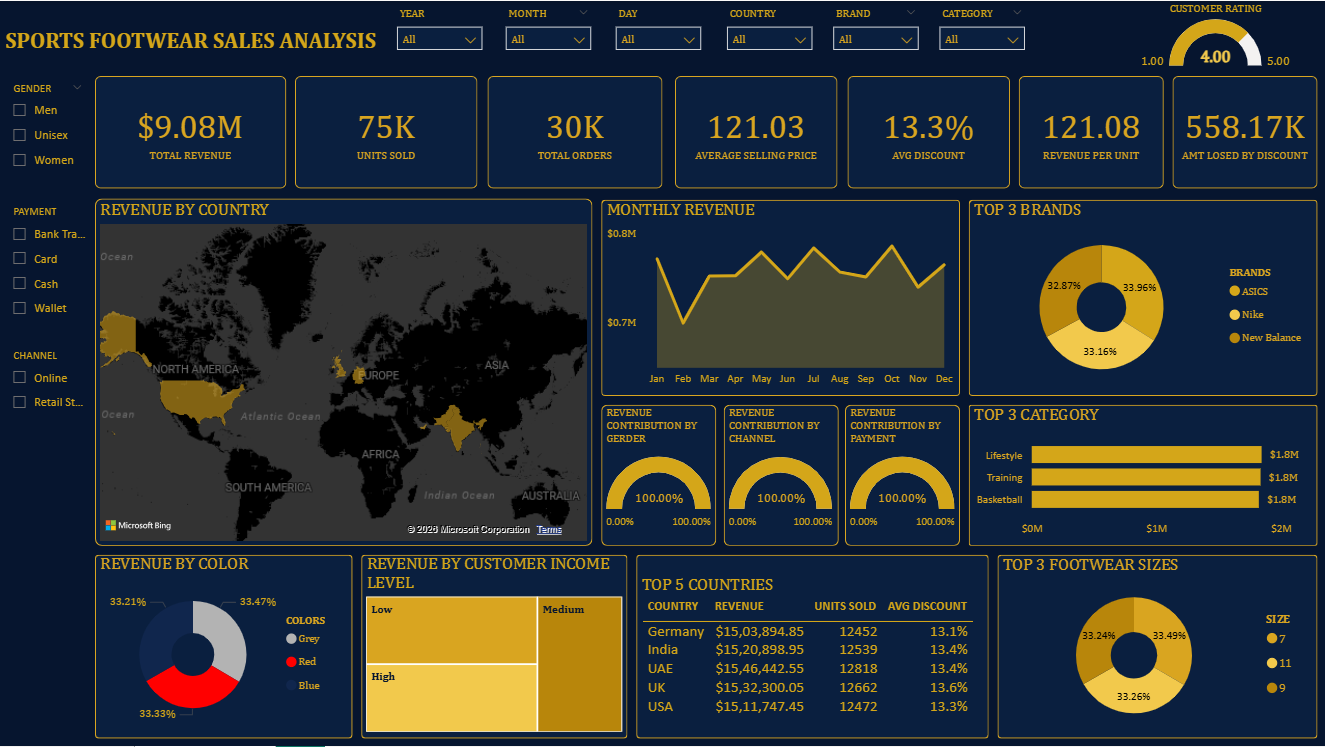

What the dashboard file says about the page in this screenshot:
{"tool":"powerbi","page":{"name":"DASHBOARD","canvas":[1280,720],"ordinal":0},"visuals":[{"type":"shape","box":[91.7,190.6,480.2,335.4],"z":0},{"type":"shape","box":[91.7,72.4,184.6,108.6],"z":1000},{"type":"shape","box":[284.7,72.4,176.1,108.6],"z":2000},{"type":"shape","box":[470.5,72.4,168.9,108.6],"z":3000},{"type":"shape","box":[651.5,72.4,156.8,108.6],"z":4000},{"type":"shape","box":[818,72.4,156.8,108.6],"z":5000},{"type":"shape","box":[983.2,72.4,139.9,108.6],"z":6000},{"type":"shape","box":[1131.6,72.4,139.9,108.6],"z":7000},{"type":"shape","box":[580.3,191.8,346.2,189.4],"z":8000},{"type":"shape","box":[935,191.8,336.6,189.4],"z":9000},{"type":"shape","box":[580.3,389.7,111,136.3],"z":10000},{"type":"shape","box":[698.5,389.7,111,136.3],"z":11000},{"type":"shape","box":[815.6,389.7,111,136.3],"z":12000},{"type":"shape","box":[935,389.7,336.6,136.3],"z":13000},{"type":"shape","box":[962.7,534.5,308.8,177.3],"z":14000},{"type":"shape","box":[614.1,534.5,340.2,177.3],"z":15000},{"type":"shape","box":[348.7,534.5,257,177.3],"z":16000},{"type":"shape","box":[91.7,534.5,248.5,177.3],"z":17000},{"type":"filledMap","title":"REVENUE BY COUNTRY","fields":{"Category":["DATA.country"]},"box":[91.7,191.8,480.2,334.2],"z":18000},{"type":"card","fields":{"Values":["MEASURE.TOTAL REVENUE"]},"box":[91.7,72.4,184.6,108.6],"z":19000},{"type":"card","fields":{"Values":["MEASURE.UNITS SOLD"]},"box":[284.7,72.4,176.1,108.6],"z":20000},{"type":"card","fields":{"Values":["MEASURE.TOTAL ORDERS"]},"box":[470.5,72.4,168.9,108.6],"z":21000},{"type":"card","fields":{"Values":["MEASURE.AVERAGE SELLING PRICE"]},"box":[651.5,72.4,156.8,108.6],"z":22000},{"type":"card","fields":{"Values":["MEASURE.AVG DISCOUNT"]},"box":[818,72.4,156.8,108.6],"z":23000},{"type":"card","fields":{"Values":["MEASURE.REVENUE PER UNIT"]},"box":[983.2,72.4,139.9,108.6],"z":24000},{"type":"card","fields":{"Values":["MEASURE.DIS AMT"]},"box":[1131.6,72.4,139.9,108.6],"z":25000},{"type":"areaChart","title":"MONTHLY REVENUE","fields":{"Category":["DimDate.MonthShort"],"Y":["MEASURE.TOTAL REVENUE"]},"box":[580.3,191.8,346.2,189.4],"z":26000},{"type":"textbox","box":[0,20.5,372.8,42.2],"z":27000},{"type":"donutChart","title":"TOP 3 BRANDS","fields":{"Category":["DATA.brand"],"Y":["MEASURE.TOTAL REVENUE"]},"box":[935,191.8,336.6,189.4],"z":28000},{"type":"gauge","fields":{"Y":["MEASURE.REVENUE CONTRIBUTION BY GERDER"]},"box":[580.3,389.7,111,136.3],"z":29000},{"type":"gauge","title":"REVENUE CONTRIBUTION BY CHANNEL","fields":{"Y":["MEASURE.CON BY CHANNEL"]},"box":[698.5,389.7,109.8,136.3],"z":30000},{"type":"gauge","title":"REVENUE CONTRIBUTION BY PAYMENT","fields":{"Y":["MEASURE.BY PAYMENT"]},"box":[815.6,389.7,111,136.3],"z":31000},{"type":"clusteredBarChart","title":"TOP 3 CATEGORY","fields":{"Category":["DATA.category"],"Y":["MEASURE.TOTAL REVENUE"]},"box":[935,389.7,336.6,136.3],"z":32000},{"type":"donutChart","title":"REVENUE BY COLOR","fields":{"Category":["DATA.color"],"Y":["MEASURE.TOTAL REVENUE"]},"box":[91.9,533.8,248.4,177],"z":33000},{"type":"donutChart","title":"TOP 3 FOOTWEAR SIZES","fields":{"Category":["DATA.size"],"Y":["MEASURE.TOTAL REVENUE"]},"box":[962.7,534.5,308.8,176.1],"z":34000},{"type":"treemap","title":"REVENUE BY CUSTOMER INCOME LEVEL","fields":{"Group":["DATA.customer_income_level"],"Values":["MEASURE.TOTAL REVENUE"]},"box":[348.7,533.2,257,177.3],"z":35000},{"type":"tableEx","title":"TOP 5 COUNTRIES","fields":{"Values":["DATA.country","MEASURE.TOTAL REVENUE","MEASURE.UNITS SOLD","MEASURE.AVG DISCOUNT"]},"box":[614.1,553.8,340.2,158],"z":36000},{"type":"slicer","fields":{"Values":["DimDate.Year"]},"box":[372.8,0,102.5,72.4],"z":37000},{"type":"slicer","fields":{"Values":["DimDate.MonthName"]},"box":[477.8,0,102.5,72.4],"z":38000},{"type":"slicer","fields":{"Values":["DimDate.DayName"]},"box":[583.9,0,102.5,72.4],"z":39000},{"type":"slicer","fields":{"Values":["DATA.country"]},"box":[691.3,0,102.5,72.4],"z":40000},{"type":"slicer","fields":{"Values":["DATA.brand"]},"box":[793.8,0,102.5,72.4],"z":41000},{"type":"slicer","fields":{"Values":["DATA.category"]},"box":[896.4,0,102.5,72.4],"z":42000},{"type":"slicer","fields":{"Values":["DATA.gender"]},"box":[0,72.4,91.7,108.6],"z":43000},{"type":"slicer","fields":{"Values":["DATA.payment_method"]},"box":[0,191.8,91.7,138.7],"z":44000},{"type":"slicer","fields":{"Values":["DATA.sales_channel"]},"box":[0,330.6,91.7,100.1],"z":45000},{"type":"gauge","title":"CUSTOMER RATING","fields":{"Y":["MEASURE.AVERAGE RATING"]},"box":[1074.9,0,196.6,72.4],"z":46000}]}

Visuals, with their boxes in screenshot pixels (x1, y1, x2, y2), scaled from the page's 1280x720 canvas onto the 1325x747 screenshot:
shape: bbox=(95, 198, 592, 546)
shape: bbox=(95, 75, 286, 188)
shape: bbox=(295, 75, 477, 188)
shape: bbox=(487, 75, 662, 188)
shape: bbox=(674, 75, 837, 188)
shape: bbox=(847, 75, 1009, 188)
shape: bbox=(1018, 75, 1163, 188)
shape: bbox=(1171, 75, 1316, 188)
shape: bbox=(601, 199, 959, 395)
shape: bbox=(968, 199, 1316, 395)
shape: bbox=(601, 404, 716, 546)
shape: bbox=(723, 404, 838, 546)
shape: bbox=(844, 404, 959, 546)
shape: bbox=(968, 404, 1316, 546)
shape: bbox=(997, 555, 1316, 738)
shape: bbox=(636, 555, 988, 738)
shape: bbox=(361, 555, 627, 738)
shape: bbox=(95, 555, 352, 738)
"REVENUE BY COUNTRY" filledMap: bbox=(95, 199, 592, 546)
card - MEASURE.TOTAL REVENUE: bbox=(95, 75, 286, 188)
card - MEASURE.UNITS SOLD: bbox=(295, 75, 477, 188)
card - MEASURE.TOTAL ORDERS: bbox=(487, 75, 662, 188)
card - MEASURE.AVERAGE SELLING PRICE: bbox=(674, 75, 837, 188)
card - MEASURE.AVG DISCOUNT: bbox=(847, 75, 1009, 188)
card - MEASURE.REVENUE PER UNIT: bbox=(1018, 75, 1163, 188)
card - MEASURE.DIS AMT: bbox=(1171, 75, 1316, 188)
"MONTHLY REVENUE" areaChart: bbox=(601, 199, 959, 395)
textbox: bbox=(0, 21, 386, 65)
"TOP 3 BRANDS" donutChart: bbox=(968, 199, 1316, 395)
gauge - MEASURE.REVENUE CONTRIBUTION BY GERDER: bbox=(601, 404, 716, 546)
"REVENUE CONTRIBUTION BY CHANNEL" gauge: bbox=(723, 404, 837, 546)
"REVENUE CONTRIBUTION BY PAYMENT" gauge: bbox=(844, 404, 959, 546)
"TOP 3 CATEGORY" clusteredBarChart: bbox=(968, 404, 1316, 546)
"REVENUE BY COLOR" donutChart: bbox=(95, 554, 352, 737)
"TOP 3 FOOTWEAR SIZES" donutChart: bbox=(997, 555, 1316, 737)
"REVENUE BY CUSTOMER INCOME LEVEL" treemap: bbox=(361, 553, 627, 737)
"TOP 5 COUNTRIES" tableEx: bbox=(636, 575, 988, 738)
slicer - DimDate.Year: bbox=(386, 0, 492, 75)
slicer - DimDate.MonthName: bbox=(495, 0, 601, 75)
slicer - DimDate.DayName: bbox=(604, 0, 711, 75)
slicer - DATA.country: bbox=(716, 0, 822, 75)
slicer - DATA.brand: bbox=(822, 0, 928, 75)
slicer - DATA.category: bbox=(928, 0, 1034, 75)
slicer - DATA.gender: bbox=(0, 75, 95, 188)
slicer - DATA.payment_method: bbox=(0, 199, 95, 343)
slicer - DATA.sales_channel: bbox=(0, 343, 95, 447)
"CUSTOMER RATING" gauge: bbox=(1113, 0, 1316, 75)
